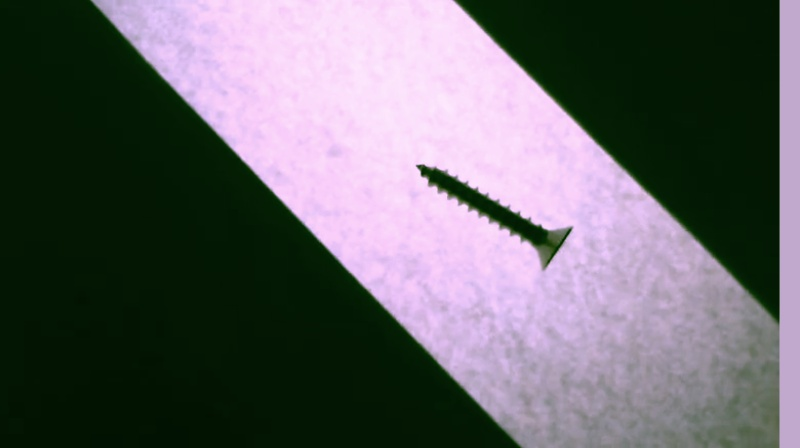S001: (411, 160, 579, 274)
